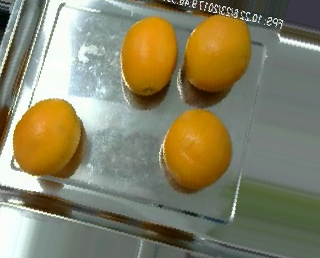Orange: (162, 107, 233, 188), (182, 11, 252, 91), (12, 98, 82, 176), (119, 15, 177, 96)
